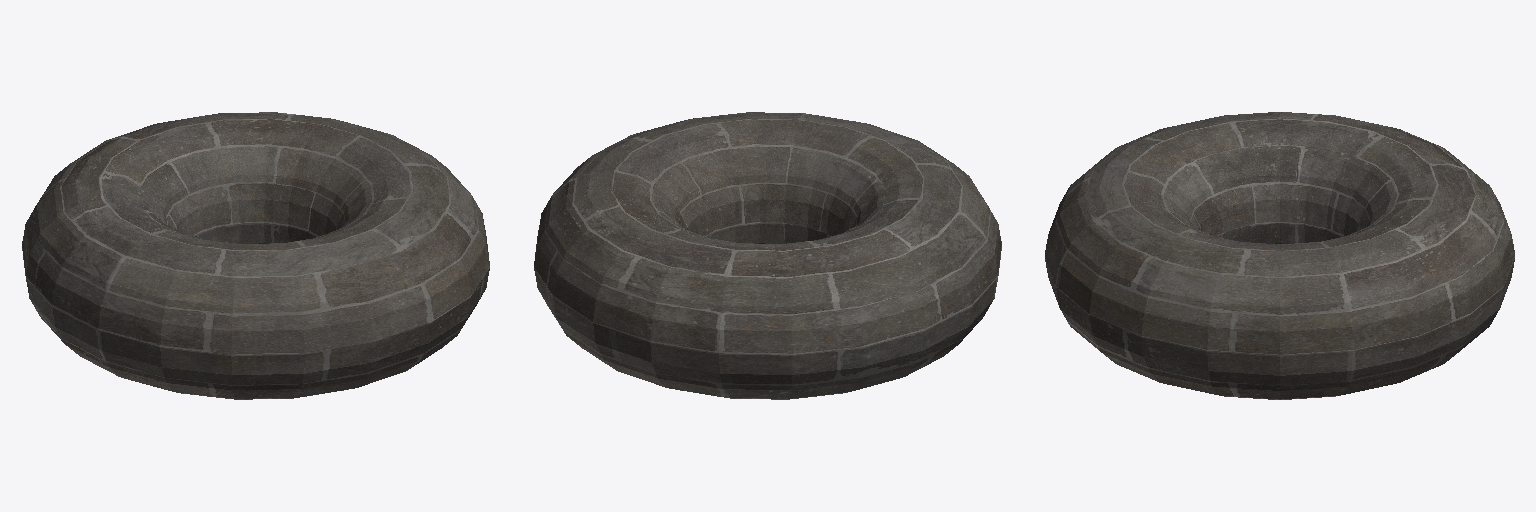
3 views of the same model, side by side, from view 1: azimuth 30°, elevation 25°; view 2: azimuth 150°, elevation 25°; view 3: azimuth 270°, elevation 25° (orthographic).
Visible parts, largest first — view 1: pTorus1; view 2: pTorus1; view 3: pTorus1.
Part boxes in pixels (bbox=[...]): pTorus1: bbox=[22, 112, 489, 399]; pTorus1: bbox=[534, 112, 1001, 399]; pTorus1: bbox=[1045, 112, 1514, 399].
Bounding box in the file's own units: 3 × 1 × 3.
1 materials, 1 textured.